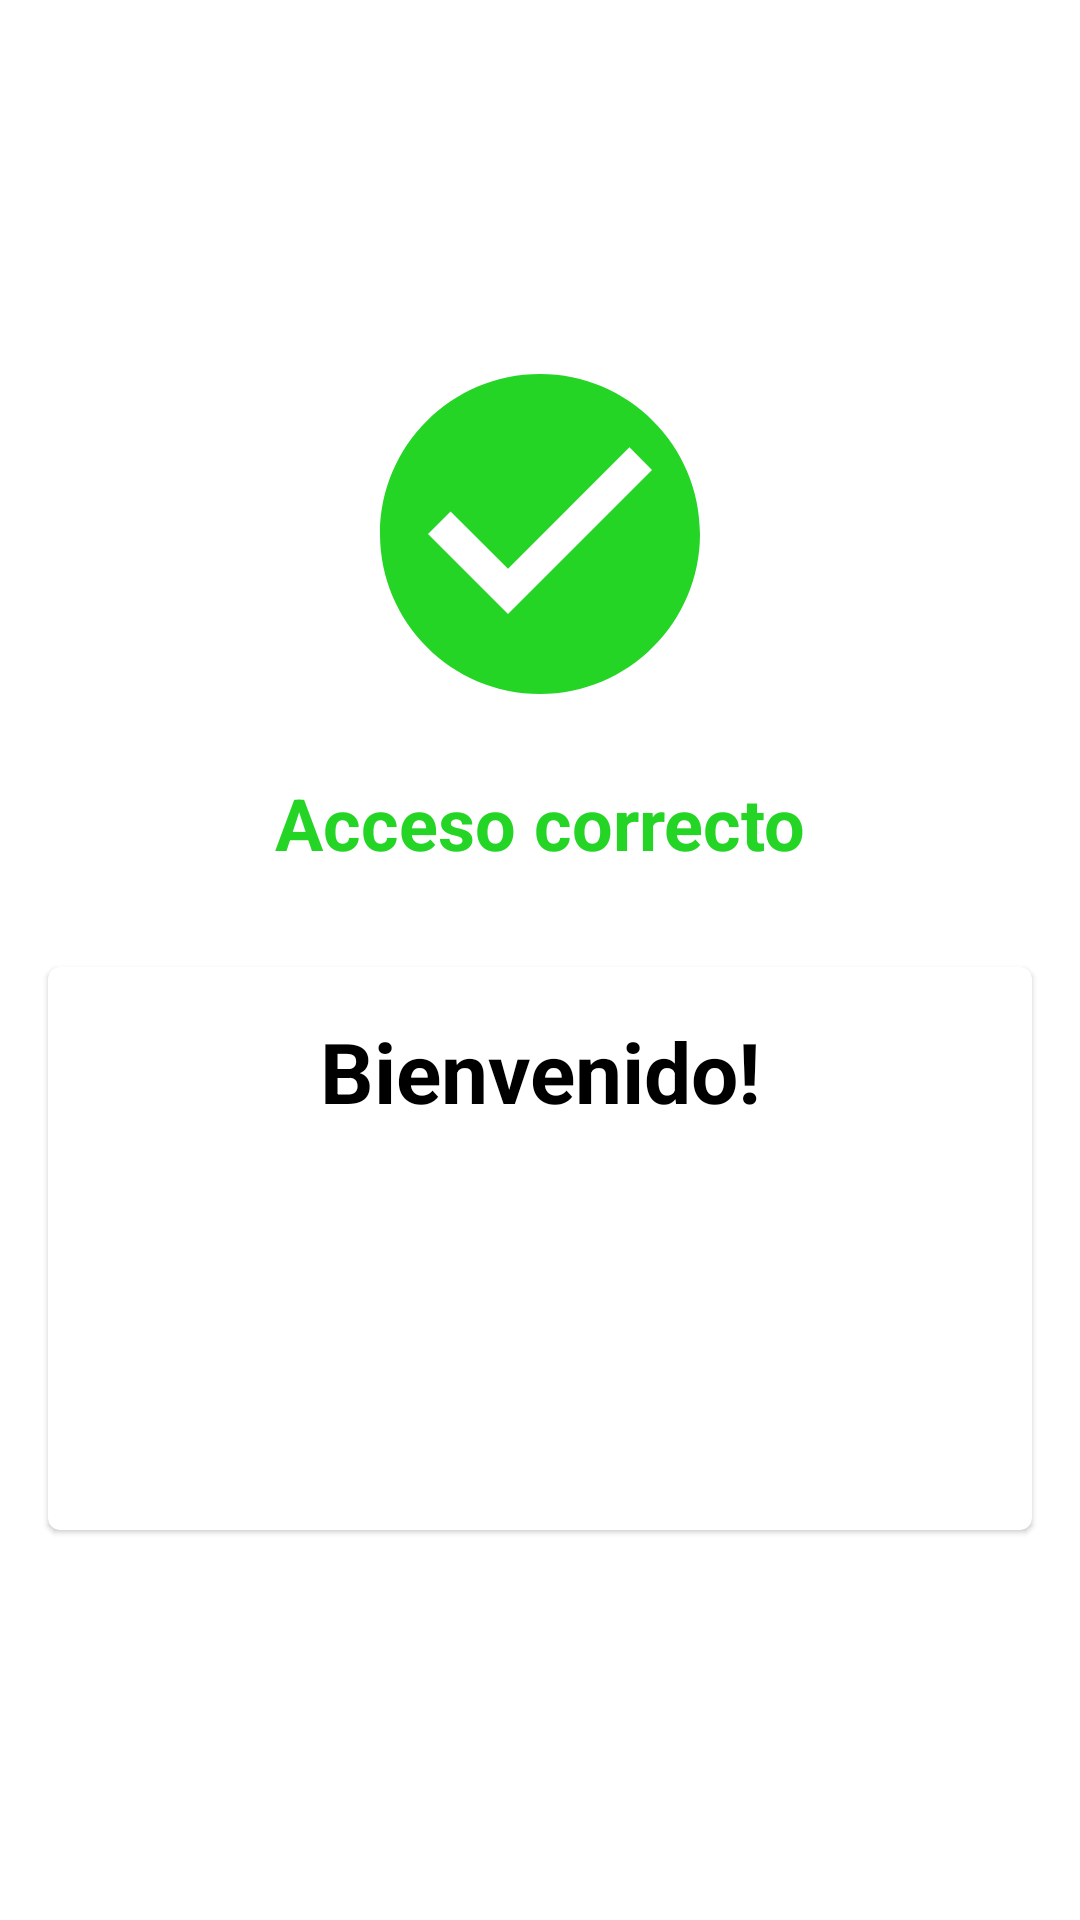

Icons on this 1080px x 1920px Android screen, each with its box as (x1, y1, x2, y2):
check circle: (380, 374, 700, 694)
